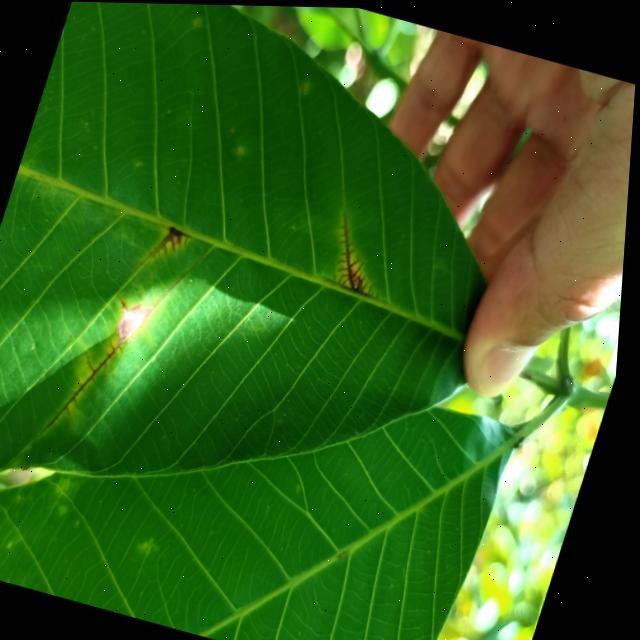Colletotrichum: (300, 84, 307, 91)
Corynespora: (47, 331, 127, 442), (323, 209, 405, 298), (152, 222, 197, 267)
Leaf-Blight: (114, 301, 152, 349)
